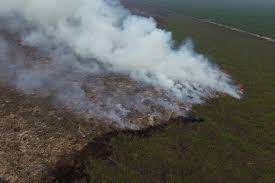yanwu: (0, 0, 242, 129)
